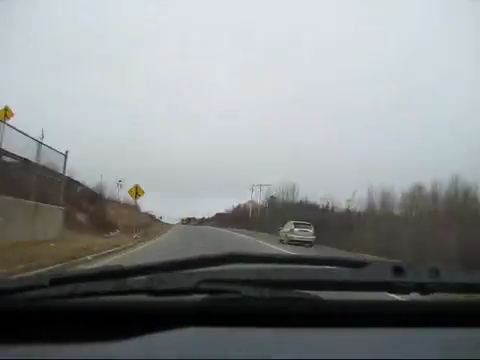car: (278, 218, 316, 246)
